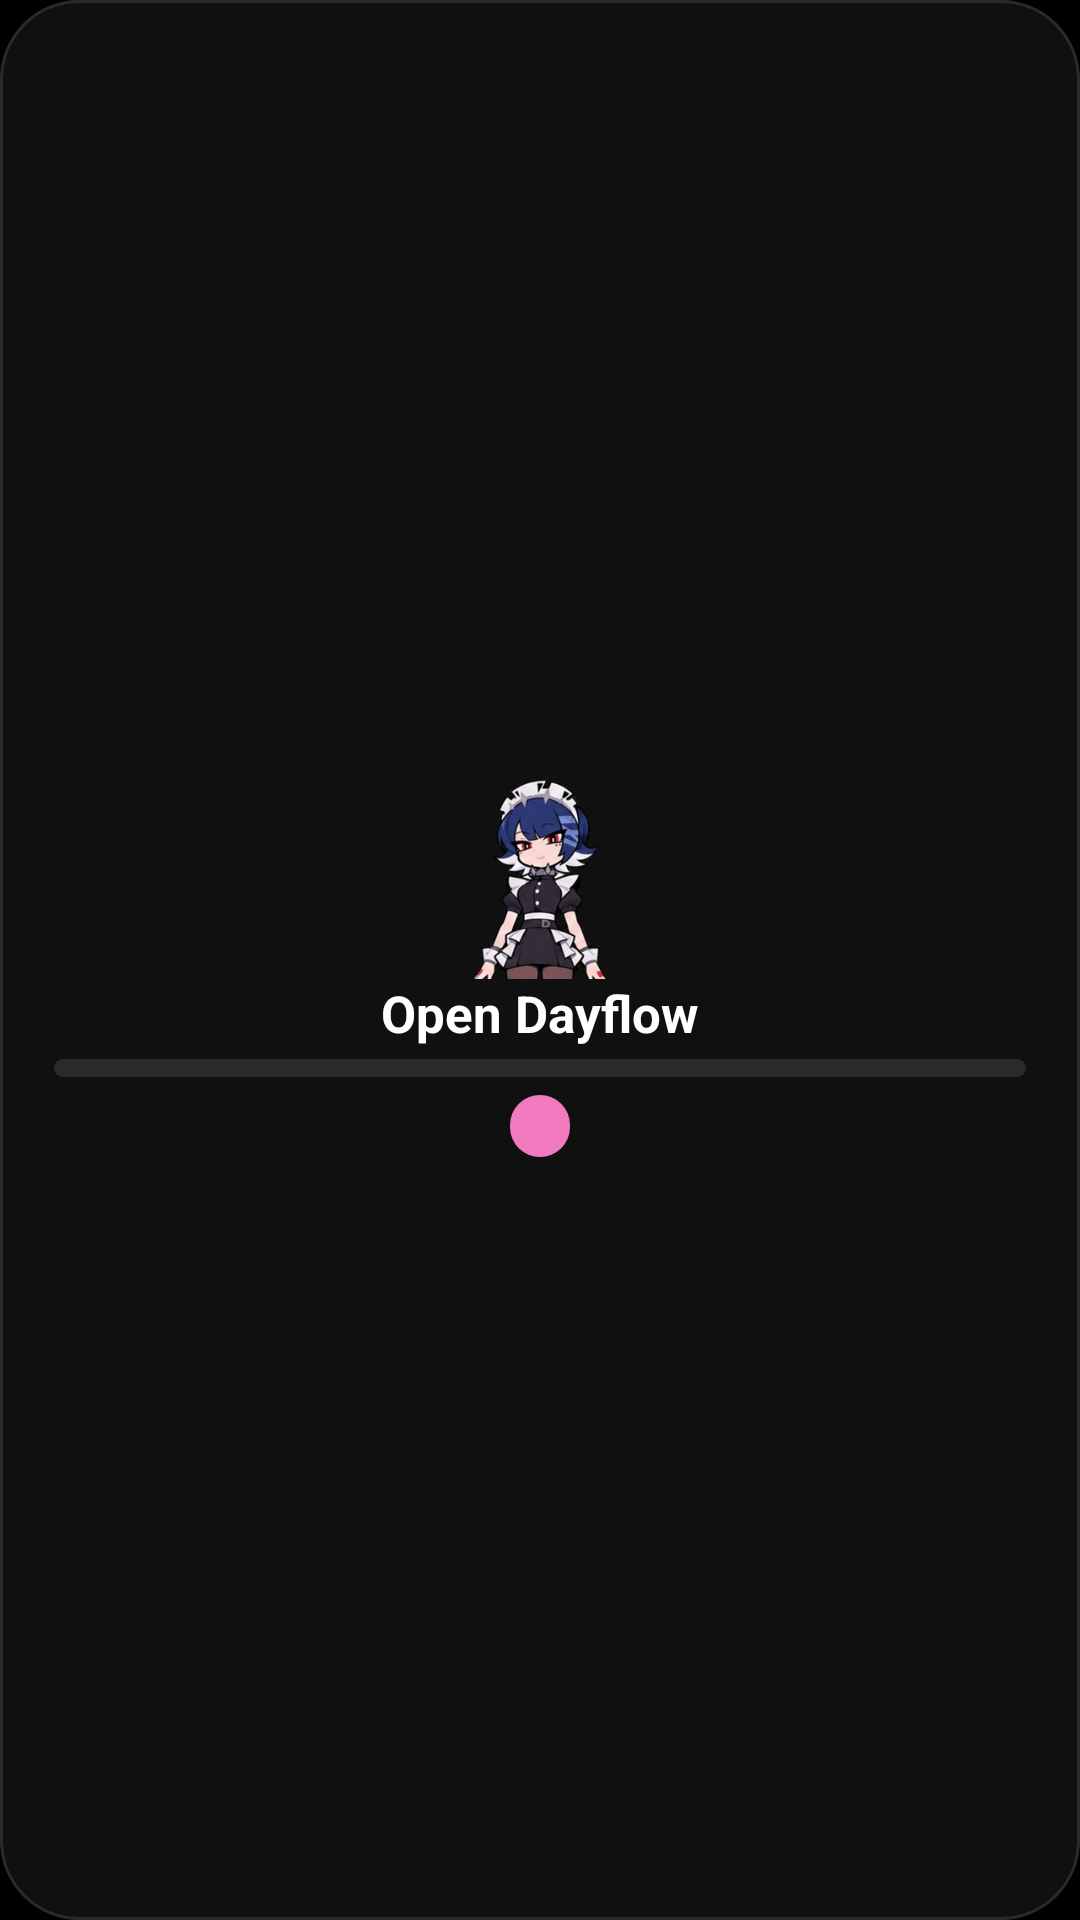

Where to tap for icons on this 1080×1920 app screen, as (x,y):
Your Dayflow pet: (540,879)
